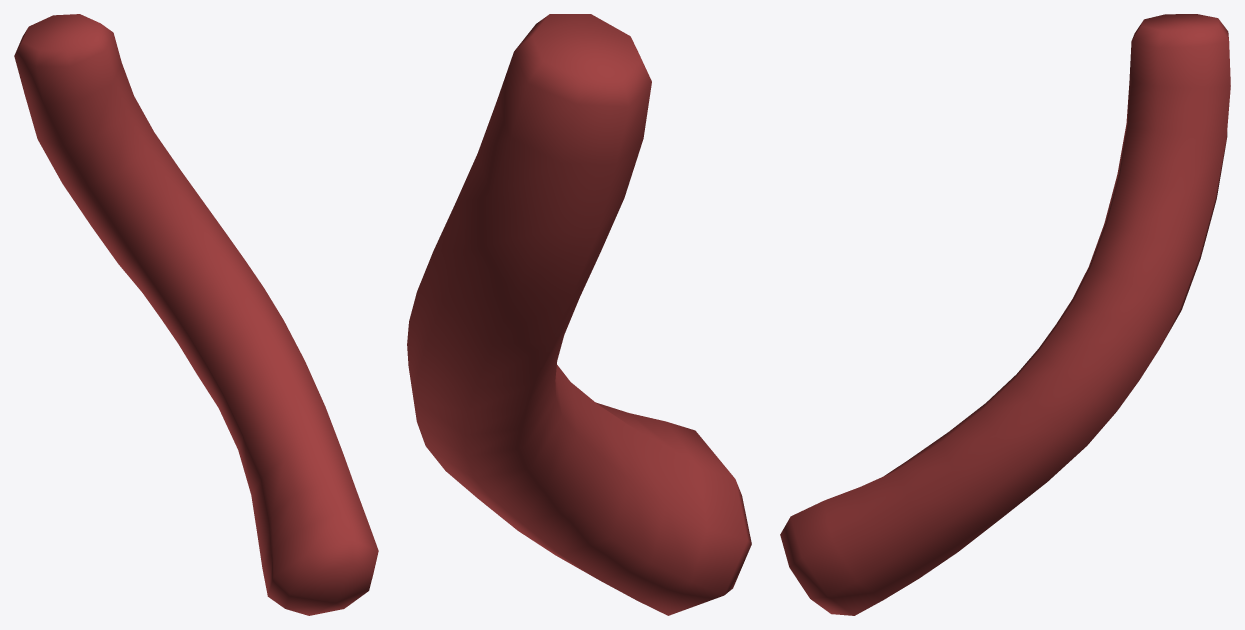
The model's file is tendon-sheath-of-tibialis-posterior-muscle-r.glb.
3 views of the same model, side by side, from view 1: azimuth 30°, elevation 25°; view 2: azimuth 150°, elevation 25°; view 3: azimuth 270°, elevation 25° (orthographic). The views are drawn at different scales.
Visible parts, largest first — view 1: Tendon sheath of tibialis posterior muscle.r; view 2: Tendon sheath of tibialis posterior muscle.r; view 3: Tendon sheath of tibialis posterior muscle.r.
Part boxes in pixels (bbox=[...]): Tendon sheath of tibialis posterior muscle.r: bbox=[14, 14, 378, 615]; Tendon sheath of tibialis posterior muscle.r: bbox=[407, 14, 751, 615]; Tendon sheath of tibialis posterior muscle.r: bbox=[780, 14, 1230, 615].
Bounding box in the file's own units: 0.017 × 0.0396 × 0.03.
